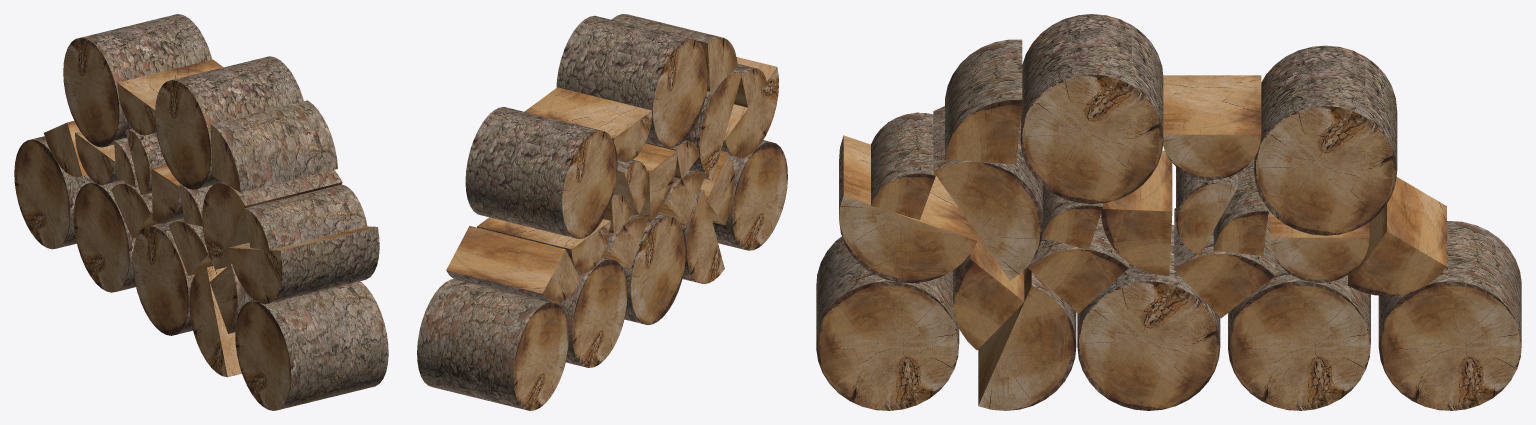
Rendered from woodpile_1.fbx.
3 renders of one model, left to right at view 1: azimuth 30°, elevation 25°; view 2: azimuth 150°, elevation 25°; view 3: azimuth 270°, elevation 25°, orthographic. The views are drawn at different scales.
Parts seen in each view (by area): view 1: Object_5, Object_4; view 2: Object_5, Object_4; view 3: Object_5, Object_4.
Boxes of the visible parts, x1=… form: Object_5: x1=14, y1=37, x2=376, y2=410; Object_4: x1=30, y1=14, x2=388, y2=409; Object_5: x1=446, y1=37, x2=787, y2=410; Object_4: x1=417, y1=14, x2=770, y2=410; Object_5: x1=816, y1=74, x2=1521, y2=410; Object_4: x1=816, y1=14, x2=1521, y2=347.
Size of the model in its own units: 2.01 by 5.19 by 9.86.
2 materials, 2 textured.
